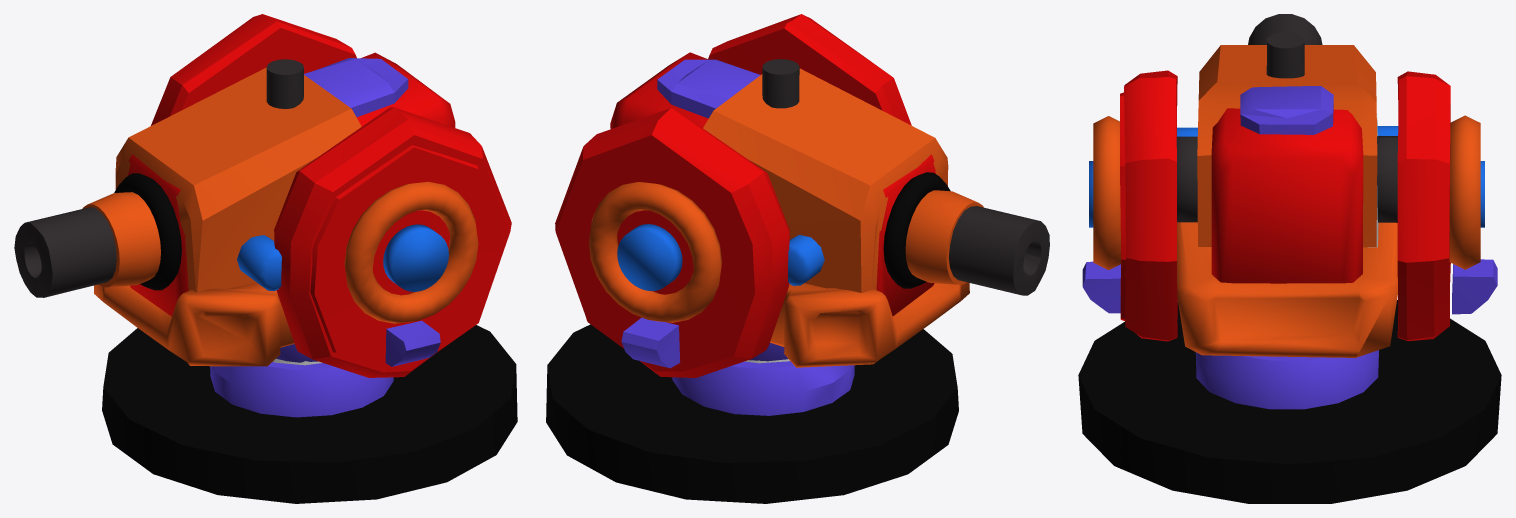
File: turret.fbx
3 views of the same model, side by side, from view 1: azimuth 30°, elevation 25°; view 2: azimuth 150°, elevation 25°; view 3: azimuth 270°, elevation 25° (orthographic). The views are drawn at different scales.
Visible parts, largest first — view 1: Cylinder.003, mesh.032, mesh.035, mesh.043, mesh.008, Cylinder.005, mesh.029, mesh.004, mesh.028, Torus.002, mesh.027, mesh.020 (+5 smaller); view 2: Cylinder.003, mesh.029, mesh.032, mesh.008, Cylinder.004, mesh.043, mesh.004, mesh.028, mesh.027, Torus.002, mesh.020, Cylinder (+4 smaller); view 3: Cylinder.003, mesh.027, mesh.008, mesh.029, mesh.043, mesh.032, mesh.004, Cylinder.004, mesh.020, Cylinder.005, mesh.037, mesh.022 (+5 smaller).
Part boxes in pixels (x1,y1,x2,y2): Cylinder.003: (102, 325, 517, 503); mesh.032: (115, 67, 361, 292); mesh.035: (310, 145, 503, 369); mesh.043: (274, 107, 511, 377); mesh.008: (94, 282, 294, 366); Cylinder.005: (344, 181, 478, 323); mesh.029: (151, 14, 356, 125); mesh.004: (210, 362, 393, 417); mesh.028: (14, 207, 116, 297); Torus.002: (82, 192, 160, 287); mesh.027: (128, 52, 455, 316); mesh.020: (304, 58, 408, 117); Cylinder.003: (546, 324, 958, 503); mesh.029: (555, 108, 789, 377); mesh.032: (703, 68, 948, 292); mesh.008: (770, 282, 969, 367); Cylinder.004: (588, 182, 721, 322); mesh.043: (708, 14, 911, 125); mesh.004: (672, 361, 854, 415); mesh.028: (948, 206, 1049, 295); mesh.027: (610, 52, 935, 316); Torus.002: (905, 190, 983, 284); mesh.020: (657, 59, 760, 118); Cylinder: (617, 224, 682, 290); Cylinder.003: (1078, 300, 1501, 503); mesh.027: (1211, 108, 1363, 283); mesh.008: (1177, 222, 1397, 357); mesh.029: (1397, 71, 1450, 340); mesh.043: (1124, 70, 1177, 341); mesh.032: (1197, 45, 1377, 247); mesh.004: (1195, 350, 1378, 409); Cylinder.004: (1449, 115, 1480, 269); mesh.020: (1240, 86, 1333, 134); Cylinder.005: (1093, 116, 1120, 270); mesh.037: (1452, 259, 1497, 314); mesh.022: (1176, 136, 1197, 222).
Size of the model in its own units: 77.58 by 57.54 by 60.85.
